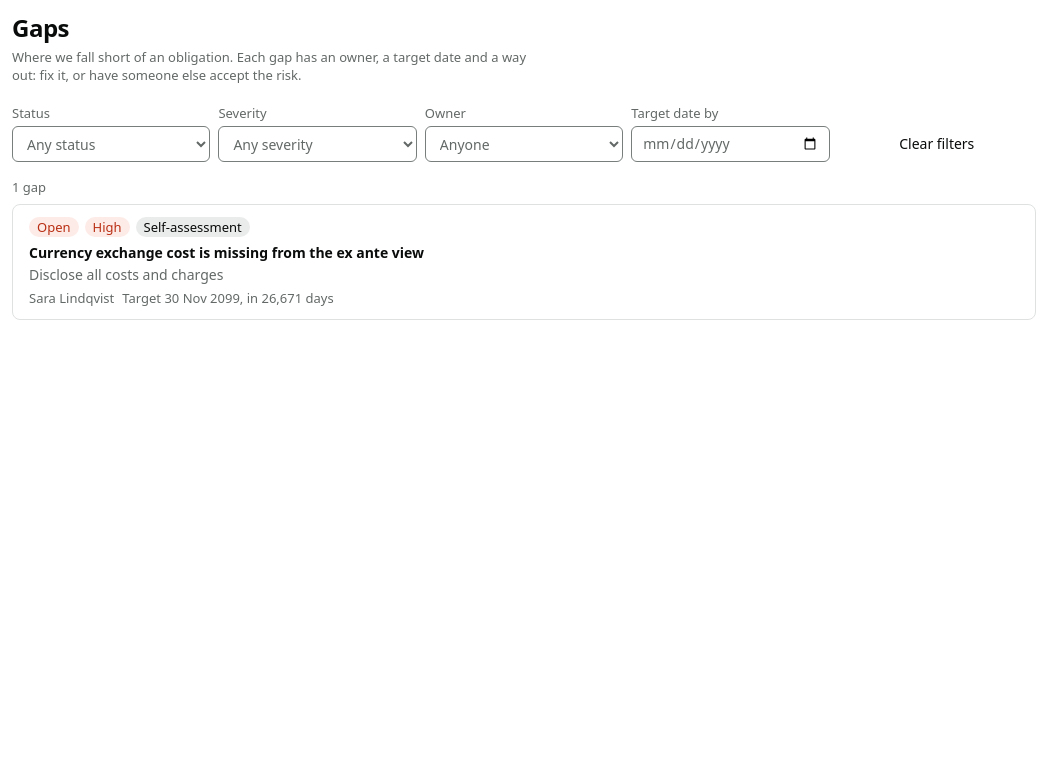
Test: the way out › starts remediation by the key of the remediating row, with the version last read
Click the button "Currency exchange cost is missing from the ex ante view": [227, 253] box [29,243,424,263]
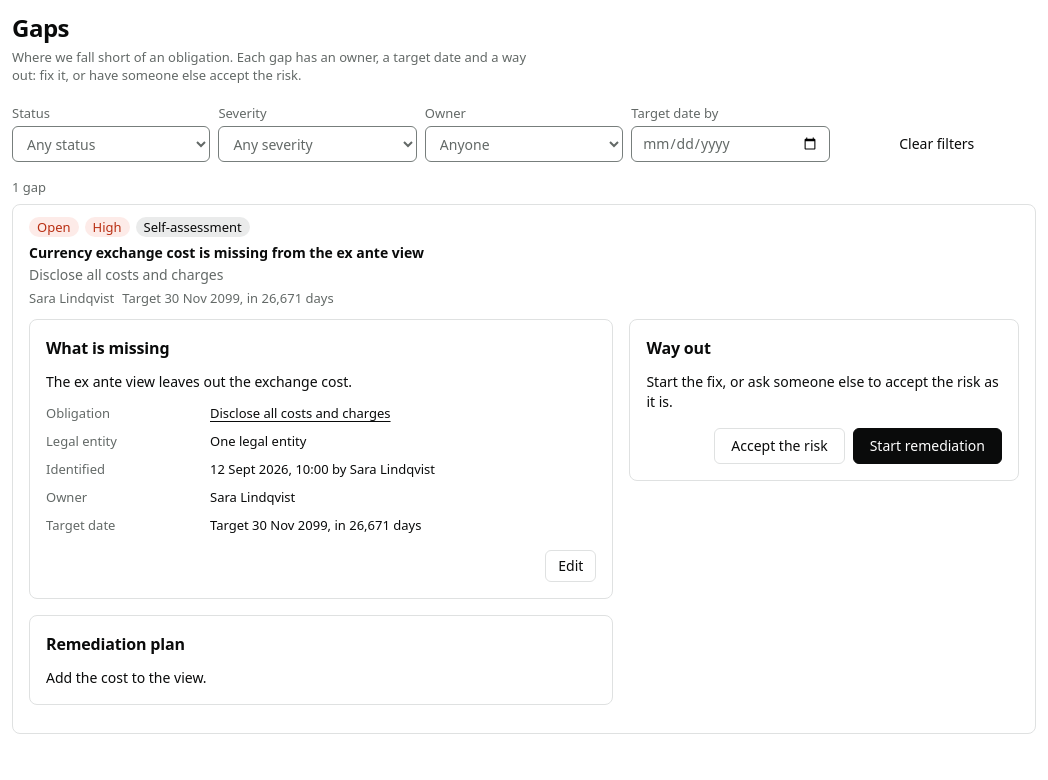
Check: the element that starts with "What is missing" is shown, box [29,319,1019,721]
Check: the button "Start remediation" is enabled
Click the button "Start remediation": [927, 446] box [853,428,1002,464]
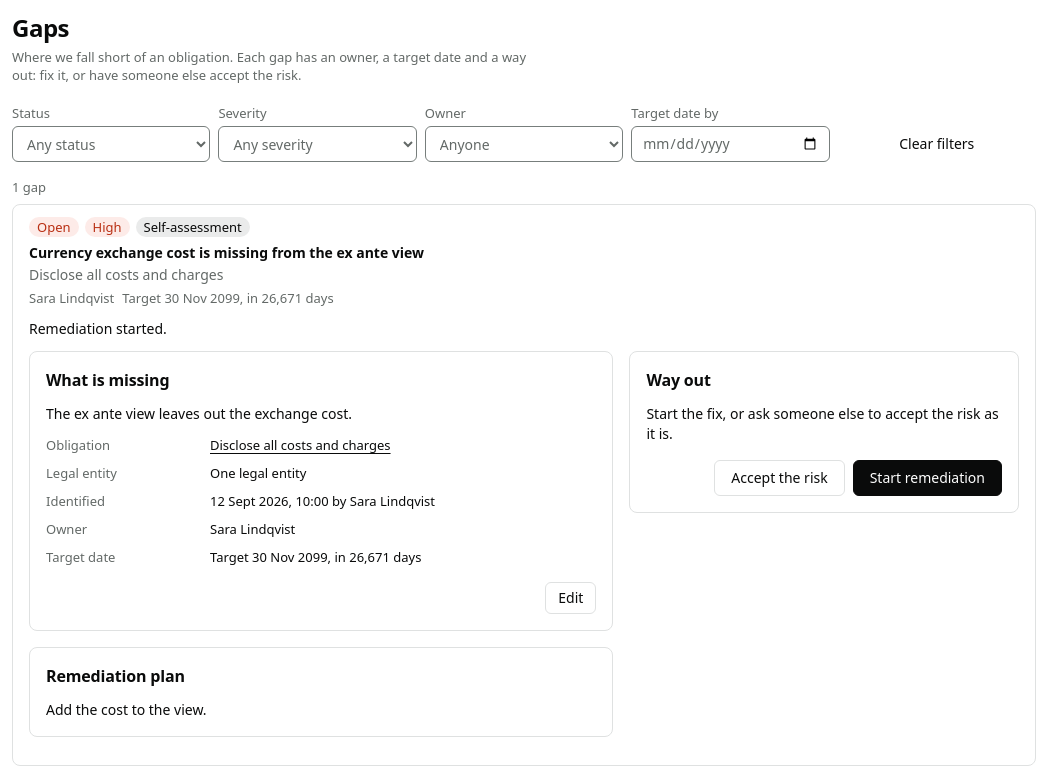
Check: the text "Remediation started." is shown, box [29,319,167,338]
